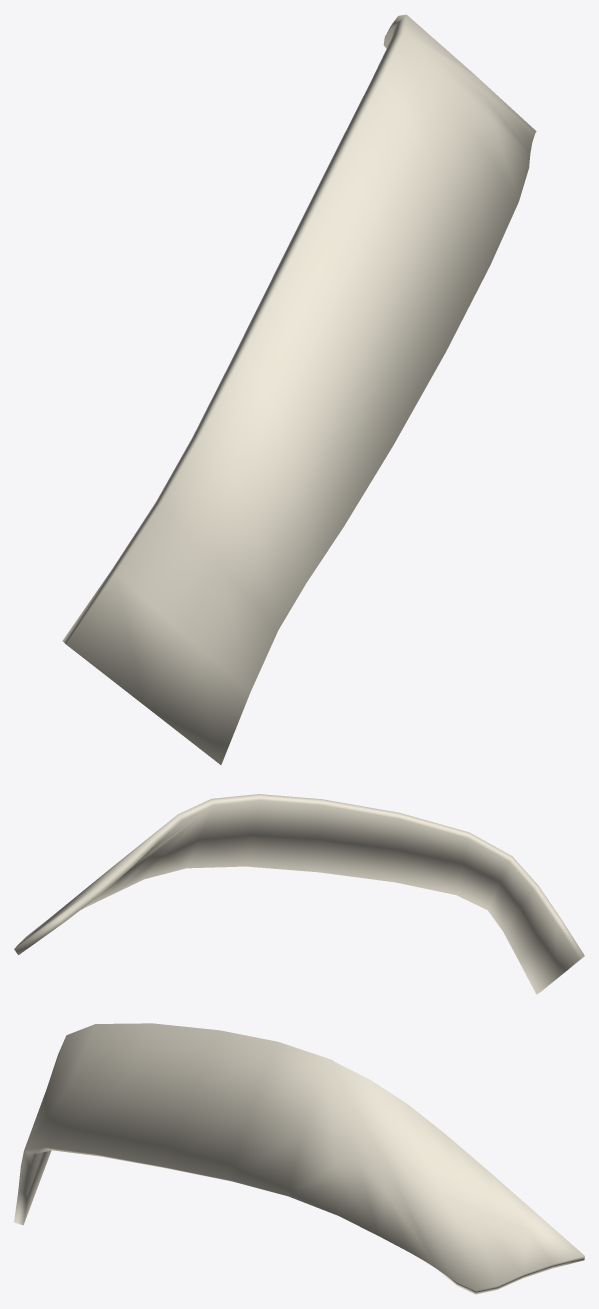
3 renders of one model, top to bottom at view 1: azimuth 30°, elevation 25°; view 2: azimuth 150°, elevation 25°; view 3: azimuth 270°, elevation 25°, orthographic. The views are drawn at different scales.
Visible parts, largest first — view 1: ZA_6255af043f9df9b7; view 2: ZA_6255af043f9df9b7; view 3: ZA_6255af043f9df9b7.
Part boxes in pixels (<box>): ZA_6255af043f9df9b7: <box>62,14,536,764</box>; ZA_6255af043f9df9b7: <box>14,794,584,994</box>; ZA_6255af043f9df9b7: <box>14,1023,584,1294</box>.
Size of the model in its own units: 0.0293 by 0.0165 by 0.0283.
